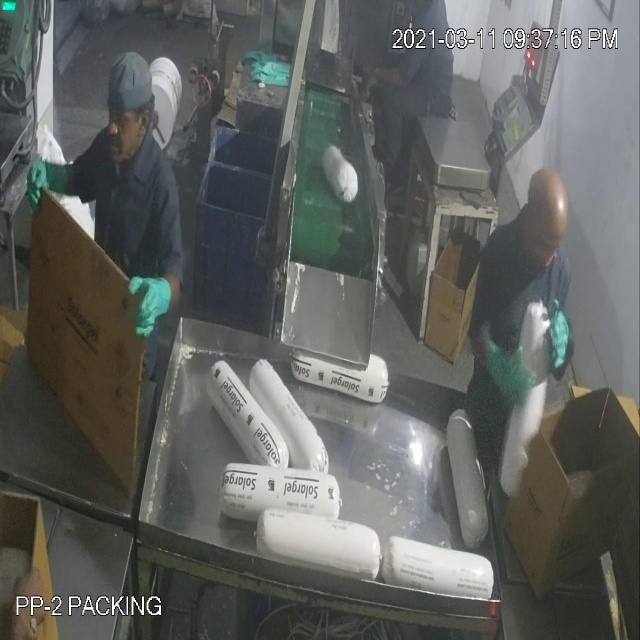Guantes: (19, 145, 86, 226), (131, 255, 173, 359)
